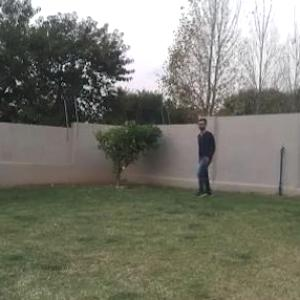follow: (195, 117, 216, 202)
